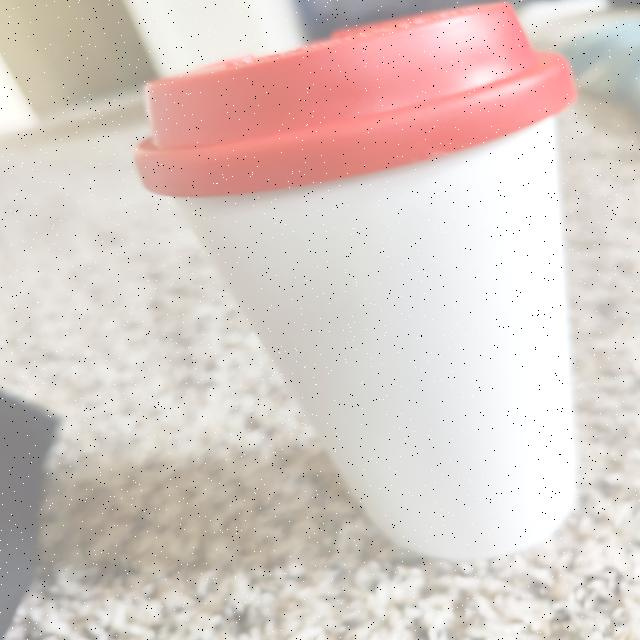mug: (149, 0, 576, 545)
